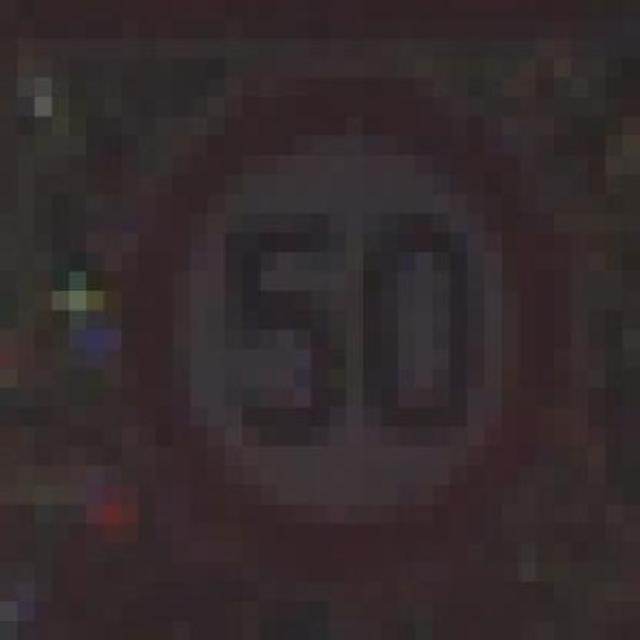forb_speed_over_50: (132, 88, 563, 562)
